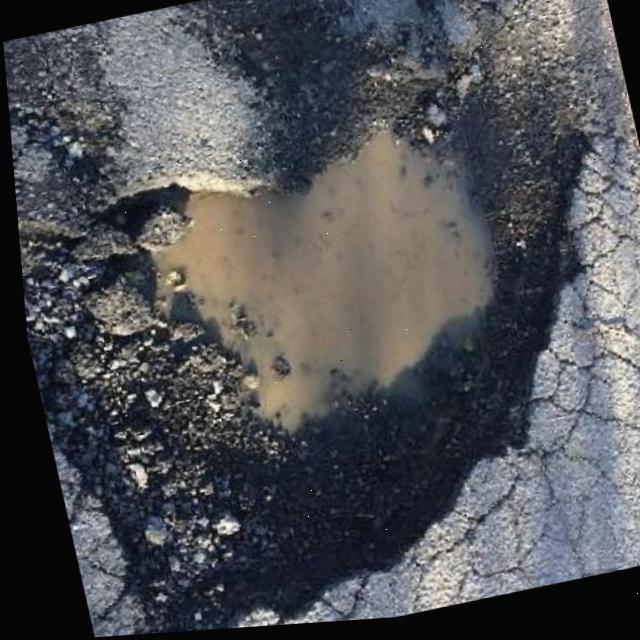Pothole: (5, 39, 640, 640)
